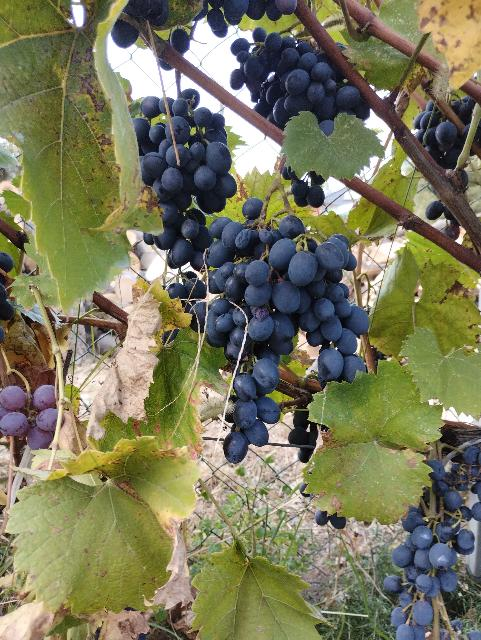grapes: (205, 198, 370, 464), (134, 91, 238, 268), (230, 28, 371, 141), (0, 385, 58, 450)
